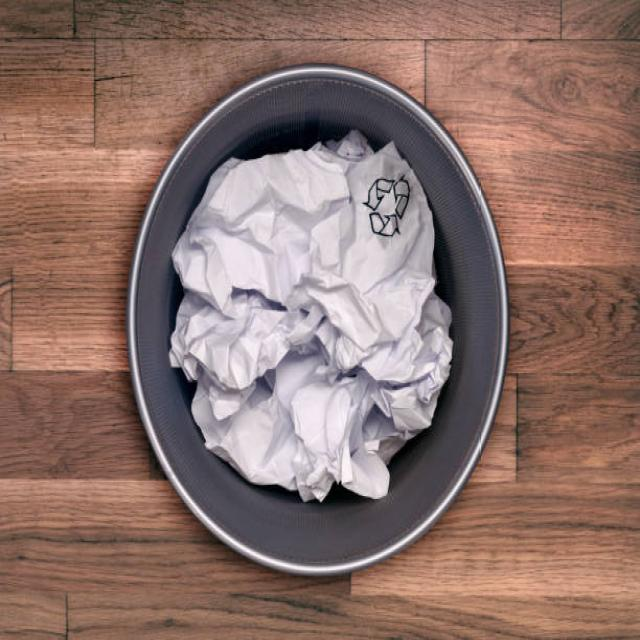electronic: (168, 129, 453, 503)
